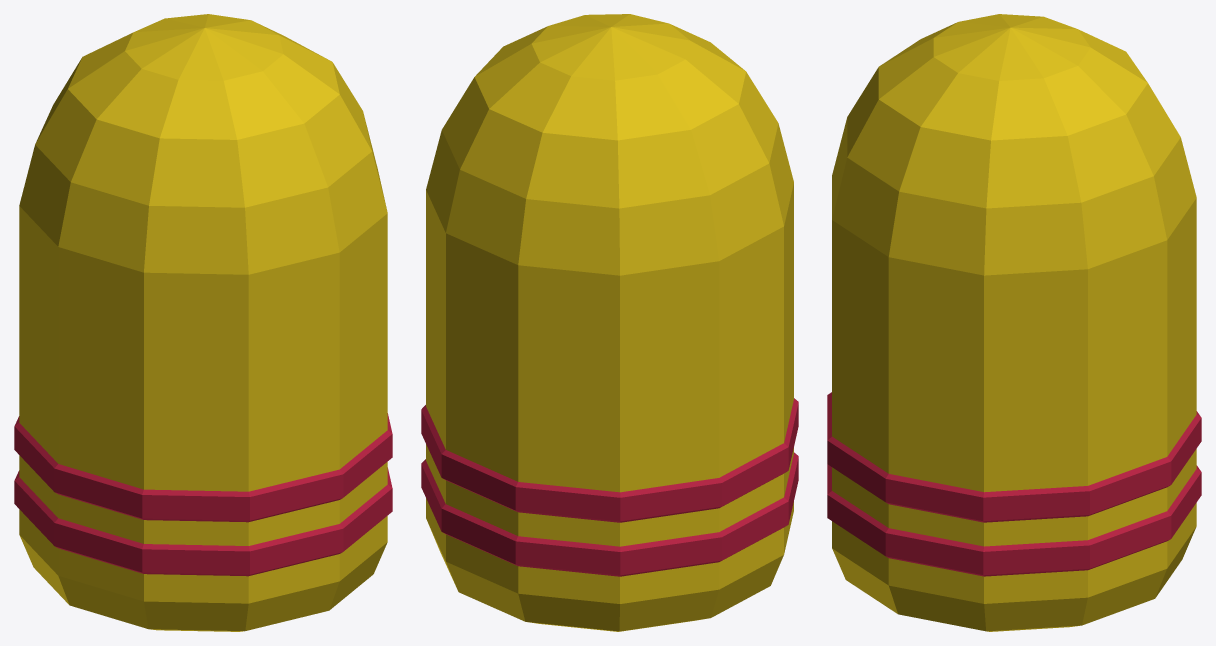
The model's file is Shell.fbx.
3 renders of one model, left to right at view 1: azimuth 30°, elevation 25°; view 2: azimuth 150°, elevation 25°; view 3: azimuth 270°, elevation 25°, orthographic.
Parts seen in each view (by area): view 1: Shell; view 2: Shell; view 3: Shell.
Boxes of the visible parts, x1,y1,x2,y2 form: Shell: (14, 14, 392, 631); Shell: (421, 14, 798, 631); Shell: (827, 14, 1201, 631).
Size of the model in its own units: 40.62 by 64.49 by 40.21.
